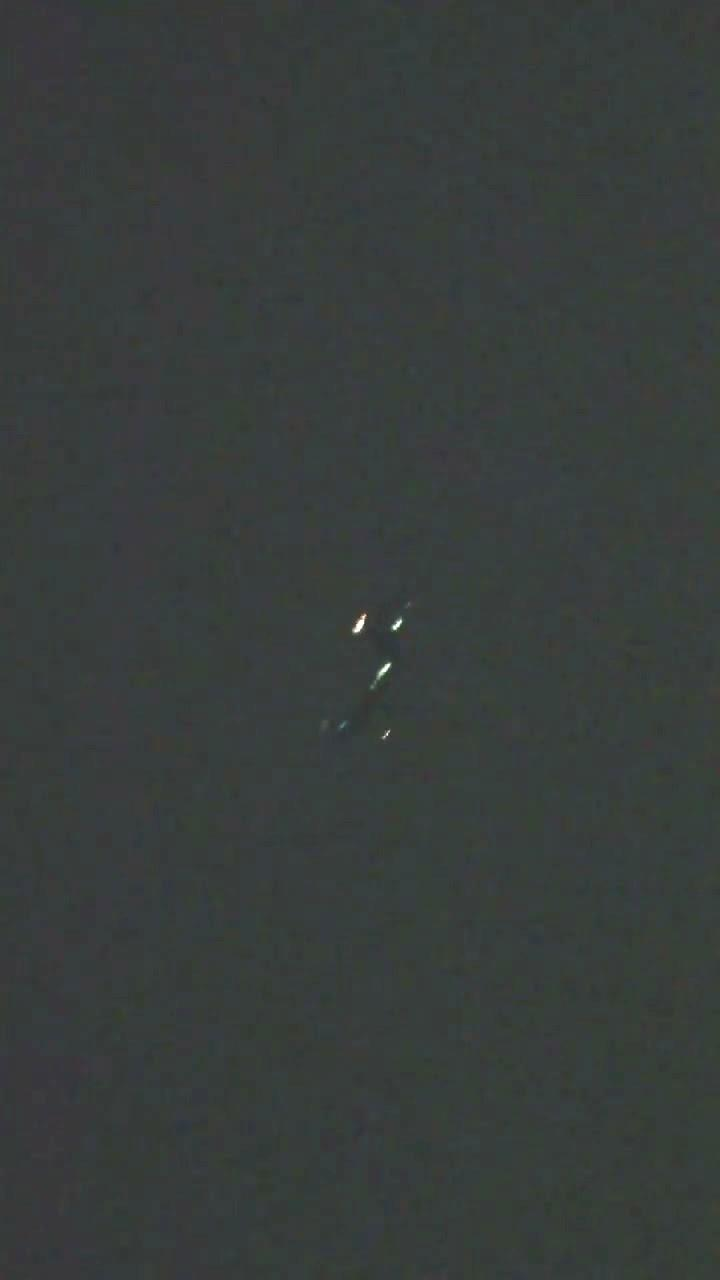Plane: (329, 554, 429, 786)
